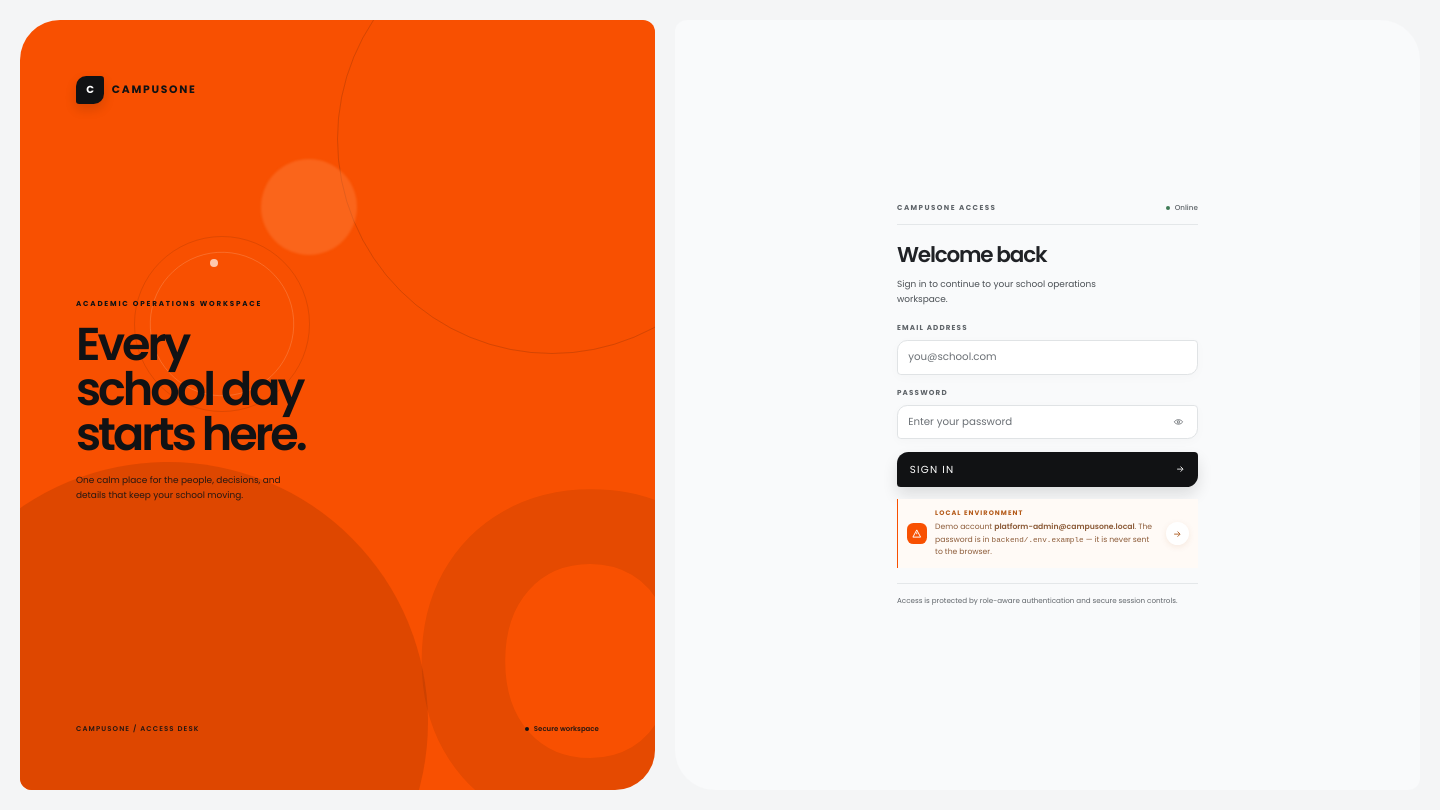
Test: LoginForm — accessibility and disclosure › offers the demo email and says where the password lives
expect the text "never sent to the browser" is shown: met, box [935,534,1149,557]
Click the button named "fill the demo email".
click(1177, 534)  # box [1166,522,1189,545]
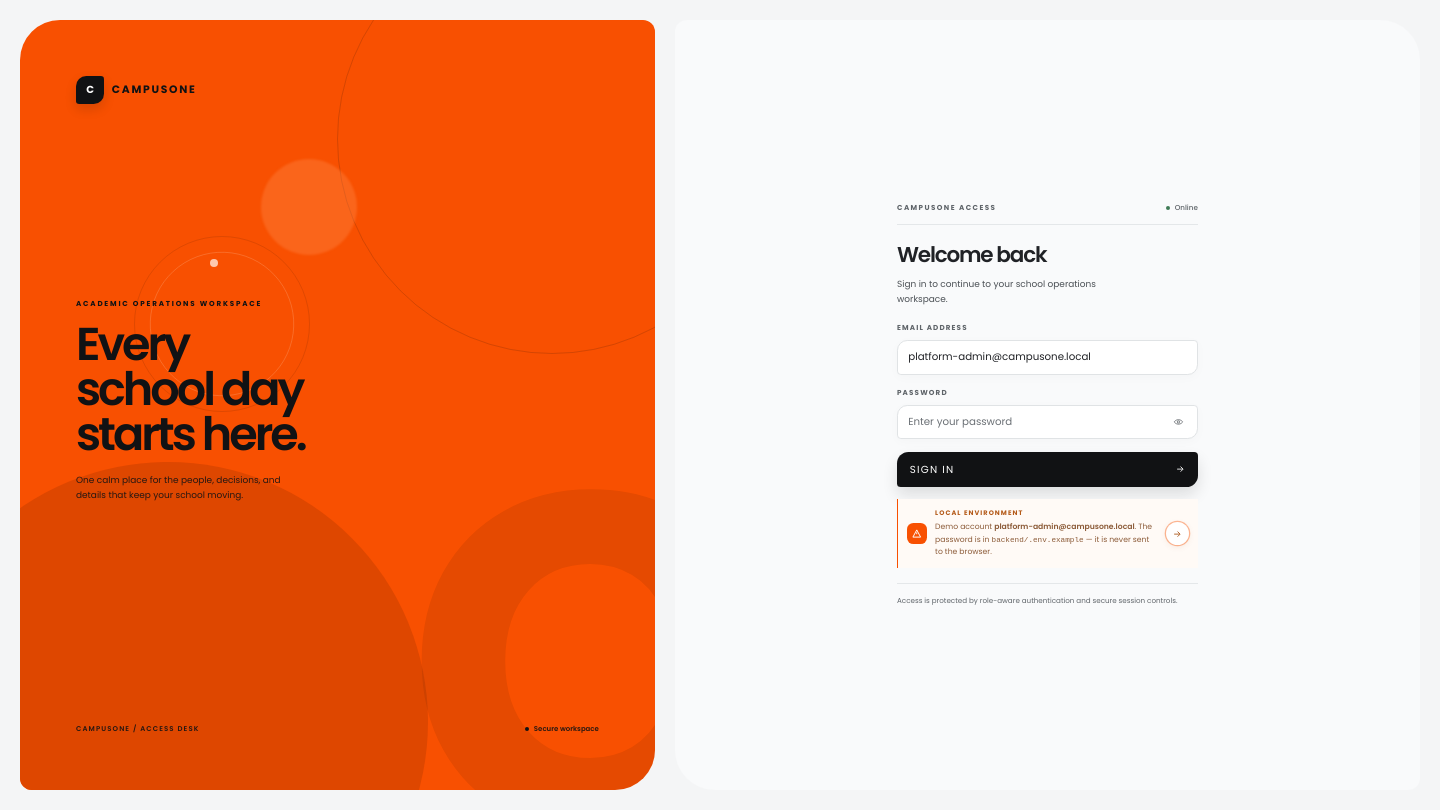
expect the field labelled "Email address" holds "platform-admin@campusone.local": met, box [897,340,1198,375]
